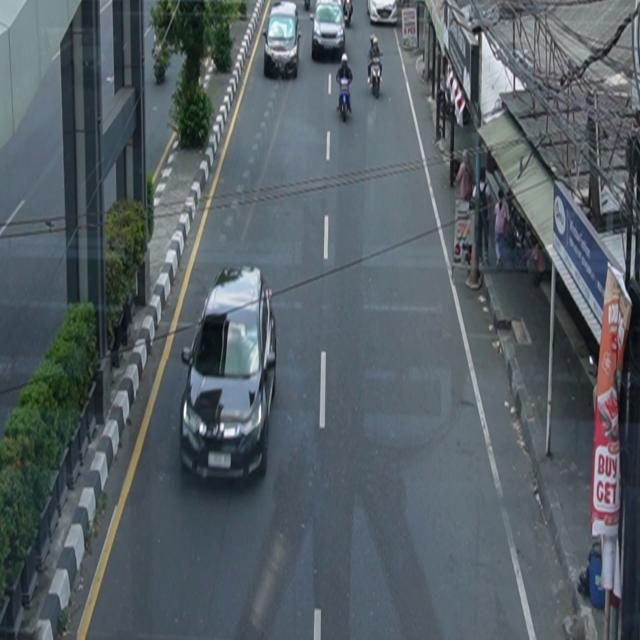car: (180, 265, 278, 485), (263, 2, 302, 80), (309, 1, 346, 61), (367, 1, 399, 26)
